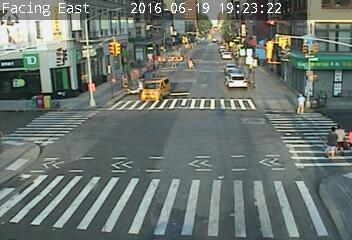neg: (165, 113, 186, 142), (143, 68, 164, 95), (200, 122, 221, 149), (281, 161, 302, 188), (114, 116, 130, 137), (120, 176, 136, 197), (84, 84, 99, 105), (244, 107, 259, 127), (31, 47, 46, 67), (277, 51, 292, 71), (169, 176, 183, 195), (246, 146, 259, 164), (49, 138, 62, 156), (229, 83, 242, 100), (92, 179, 105, 196), (60, 45, 73, 62), (114, 37, 127, 54), (41, 100, 53, 117), (208, 170, 220, 186), (63, 168, 75, 184)
pos: (320, 122, 345, 156), (295, 92, 311, 113)
